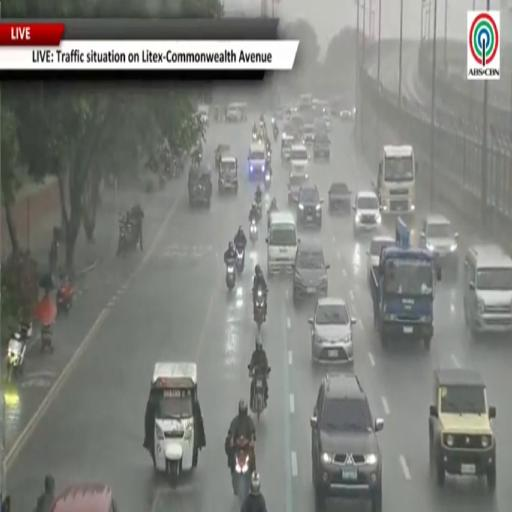car: (310, 374, 383, 511), (429, 368, 496, 490), (464, 245, 511, 337), (309, 297, 356, 363), (293, 240, 329, 303), (420, 215, 458, 271), (51, 484, 119, 511), (367, 235, 396, 281), (353, 191, 381, 235), (297, 183, 323, 228), (188, 168, 212, 207), (218, 156, 238, 193), (328, 183, 351, 214), (288, 170, 308, 204), (313, 133, 330, 161), (215, 143, 230, 171), (227, 103, 247, 122), (303, 123, 315, 143), (198, 105, 209, 125), (282, 122, 294, 140), (340, 108, 354, 121), (323, 114, 330, 131)
motorcycle: (248, 365, 270, 421), (233, 437, 250, 505), (6, 333, 26, 381), (117, 222, 135, 255), (56, 280, 74, 313), (254, 288, 266, 330), (41, 324, 53, 353), (226, 262, 236, 292), (19, 321, 33, 340), (236, 247, 244, 274), (249, 221, 257, 244), (255, 199, 261, 221), (265, 171, 271, 190), (273, 125, 278, 141), (252, 131, 258, 142)
truck: (370, 218, 441, 349), (373, 146, 417, 217)
